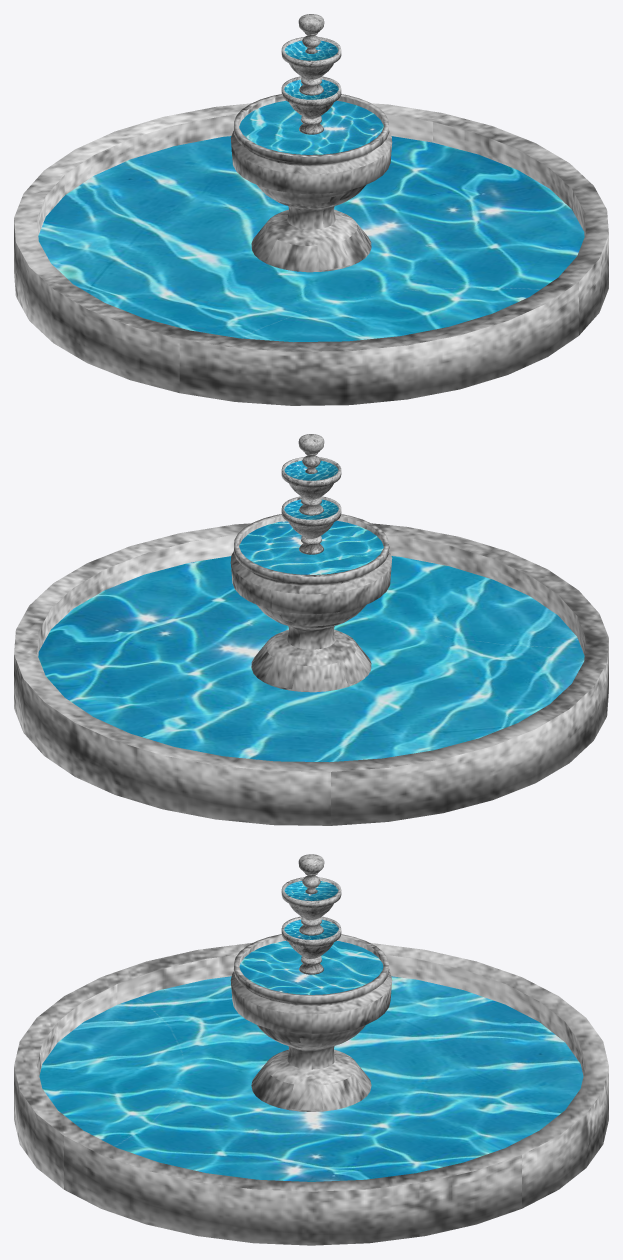
The model's file is Fonte 2.fbx.
The picture shows the model from 3 angles, top to bottom: view 1: azimuth 30°, elevation 25°; view 2: azimuth 150°, elevation 25°; view 3: azimuth 270°, elevation 25°; orthographic projection.
Parts seen in each view (by area): view 1: Base, Primeiro Nivel, Terceiro Nivel, Segundo Nivel, Topo; view 2: Base, Primeiro Nivel, Terceiro Nivel, Segundo Nivel, Topo; view 3: Base, Primeiro Nivel, Terceiro Nivel, Segundo Nivel, Topo.
Part boxes in pixels (bbox=[...]): Base: bbox=[14, 103, 608, 405]; Primeiro Nivel: bbox=[230, 94, 392, 272]; Terceiro Nivel: bbox=[281, 37, 341, 95]; Segundo Nivel: bbox=[281, 76, 341, 134]; Topo: bbox=[298, 14, 324, 53]; Base: bbox=[14, 523, 608, 825]; Primeiro Nivel: bbox=[230, 514, 392, 692]; Terceiro Nivel: bbox=[281, 457, 341, 515]; Segundo Nivel: bbox=[281, 496, 341, 554]; Topo: bbox=[298, 434, 324, 473]; Base: bbox=[14, 942, 608, 1245]; Primeiro Nivel: bbox=[230, 934, 392, 1111]; Terceiro Nivel: bbox=[281, 877, 341, 935]; Segundo Nivel: bbox=[281, 916, 341, 974]; Topo: bbox=[298, 854, 324, 894].
Size of the model in its own units: 500 by 243 by 500.
Materials: 1 (1 with a texture image).
